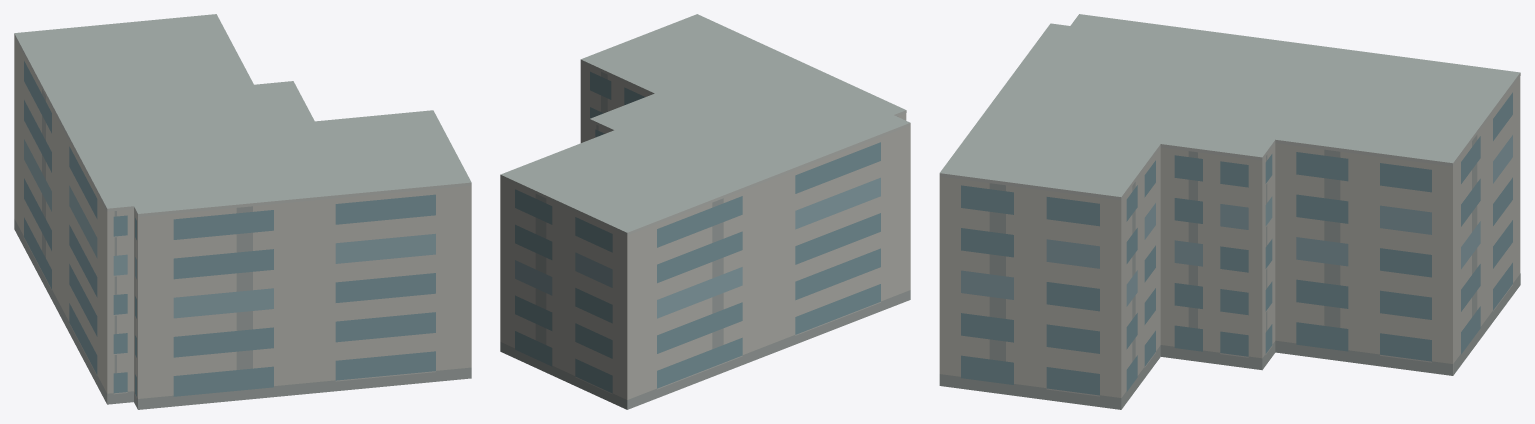
The model's file is residential-8f1f8118-c22e-43f8-af2d-a0484d8490aa.glb.
The picture shows the model from 3 angles, left to right: view 1: azimuth 30°, elevation 25°; view 2: azimuth 150°, elevation 25°; view 3: azimuth 270°, elevation 25°; orthographic projection. The views are drawn at different scales.
Parts seen in each view (by area): view 1: residential-8f1f8118-c22e-43f8-af2d-a0484d8490aa.tmp; view 2: residential-8f1f8118-c22e-43f8-af2d-a0484d8490aa.tmp; view 3: residential-8f1f8118-c22e-43f8-af2d-a0484d8490aa.tmp.
Boxes of the visible parts, left/top/right/bottom form: residential-8f1f8118-c22e-43f8-af2d-a0484d8490aa.tmp: left=14, top=14, right=471, bottom=409; residential-8f1f8118-c22e-43f8-af2d-a0484d8490aa.tmp: left=500, top=14, right=910, bottom=409; residential-8f1f8118-c22e-43f8-af2d-a0484d8490aa.tmp: left=939, top=14, right=1520, bottom=409.
Size of the model in its own units: 28.17 by 15.25 by 37.75.
